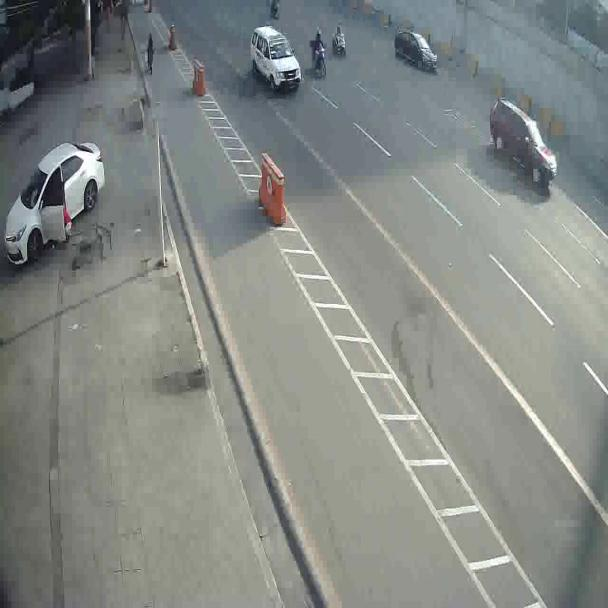motorcyclist: (307, 28, 328, 80), (330, 21, 348, 60)
vehicle: (7, 134, 95, 274), (487, 91, 558, 190), (249, 25, 300, 92), (393, 26, 436, 72)
